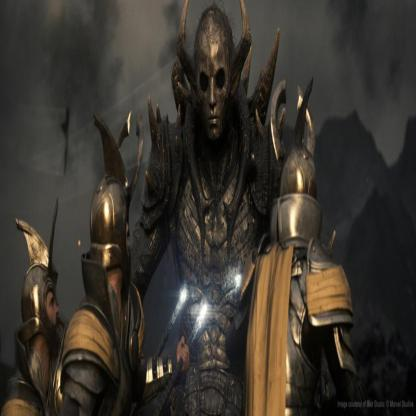face: (198, 40, 232, 138), (44, 280, 60, 341)
